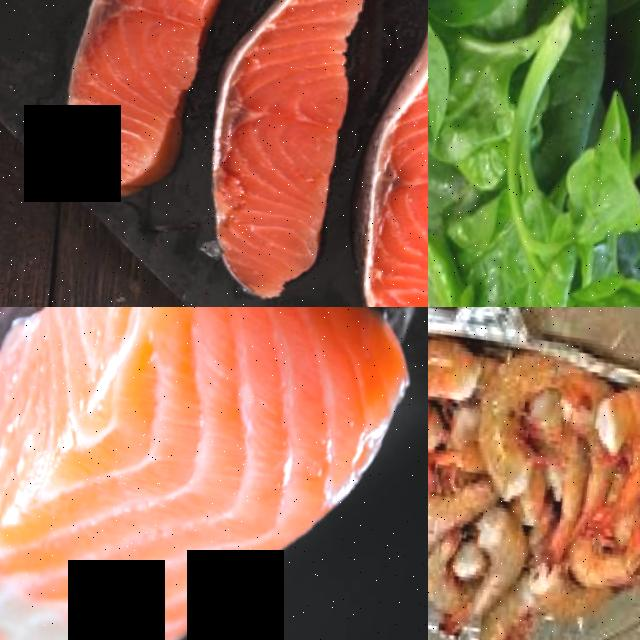salmon: (0, 307, 424, 640), (348, 0, 428, 307)
shrimp: (474, 349, 546, 493), (473, 497, 534, 623), (541, 428, 596, 565), (428, 340, 487, 444), (428, 450, 491, 532), (592, 377, 640, 467), (428, 525, 465, 612), (479, 603, 556, 640)
